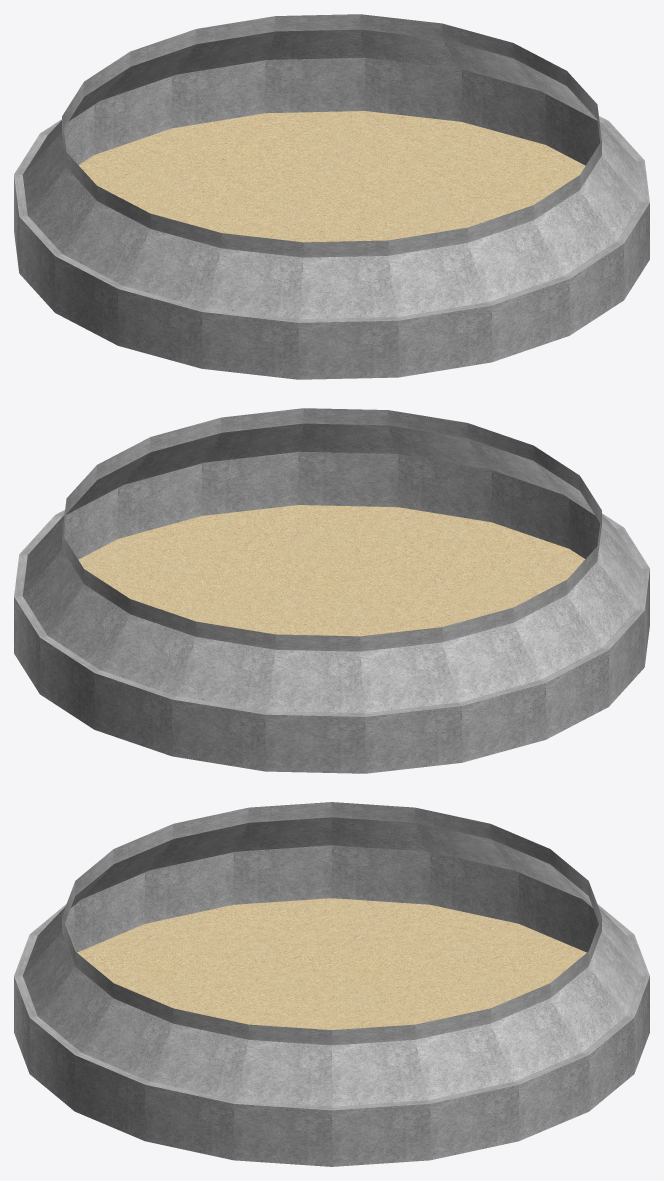
File: Arena.fbx
3 views of the same model, one above another, from view 1: azimuth 30°, elevation 25°; view 2: azimuth 150°, elevation 25°; view 3: azimuth 270°, elevation 25° (orthographic).
Parts seen in each view (by area): view 1: Arena; view 2: Arena; view 3: Arena.
Boxes of the visible parts, left/top/right/bottom form: Arena: left=14, top=14, right=649, bottom=379; Arena: left=14, top=408, right=649, bottom=773; Arena: left=14, top=802, right=649, bottom=1166.
Size of the model in its own units: 334 by 67.58 by 334.
2 materials, 2 textured.
